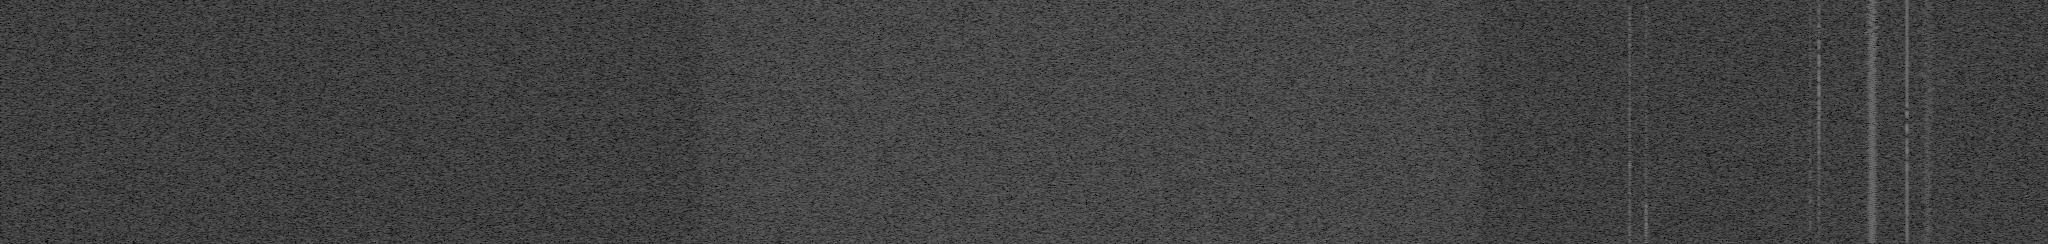wv_am: (1904, 123, 1910, 243), (1808, 0, 1812, 155), (1904, 0, 1910, 110), (1808, 215, 1813, 232), (1808, 191, 1813, 207), (1808, 170, 1813, 183), (1904, 110, 1910, 120), (1808, 157, 1813, 164), (1808, 239, 1812, 243), (1809, 207, 1812, 211), (1809, 184, 1812, 188)
wv_dvbt_8kfft: (699, 0, 1486, 244)
wv_usb: (1816, 3, 1822, 243), (1627, 4, 1633, 159), (1644, 10, 1650, 142), (1627, 160, 1633, 243), (1644, 144, 1650, 202), (1643, 204, 1650, 243), (1644, 3, 1650, 9)
wv_wbfm: (1917, 0, 1940, 243), (1863, 0, 1883, 243)
